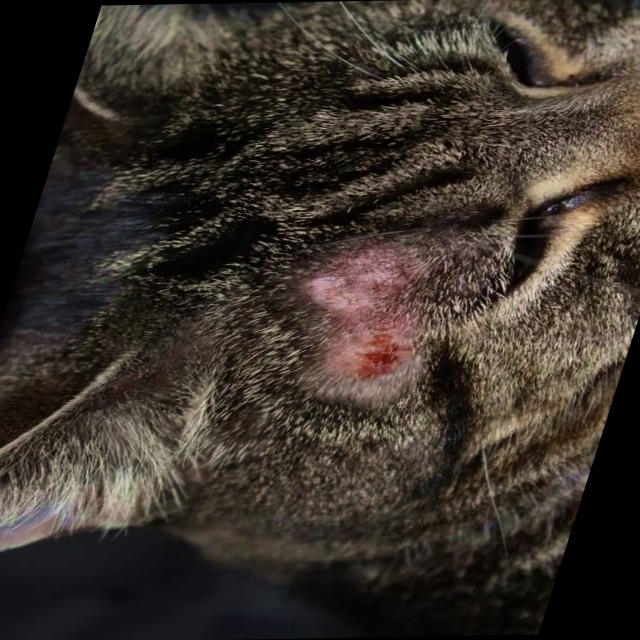ringworm: (284, 250, 440, 403)
